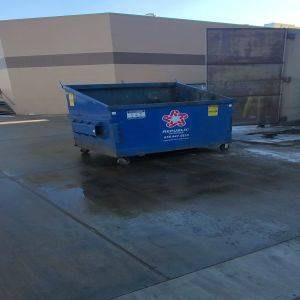Dumpster: (59, 78, 237, 167)
